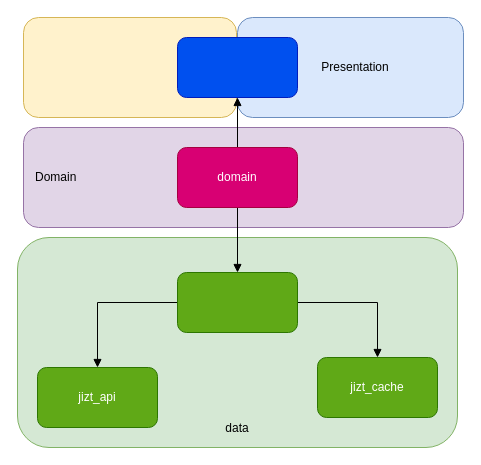
This 481x465 diagram has some shape labels left out. The centre of each missing label's shape, as x and y in pixels:
Aplication: the point at 129,67
jizt_repository: the point at 237,302
lib (main): the point at 237,67
